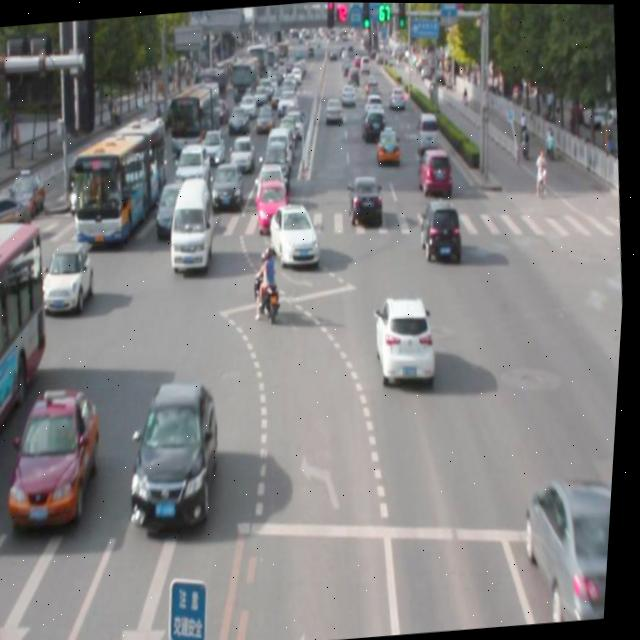car: (125, 372, 230, 527), (3, 382, 112, 527), (522, 469, 618, 623), (373, 288, 442, 383), (266, 195, 325, 266), (41, 239, 98, 312), (418, 196, 465, 259)
truck: (166, 175, 220, 271)
van: (0, 219, 66, 496)
